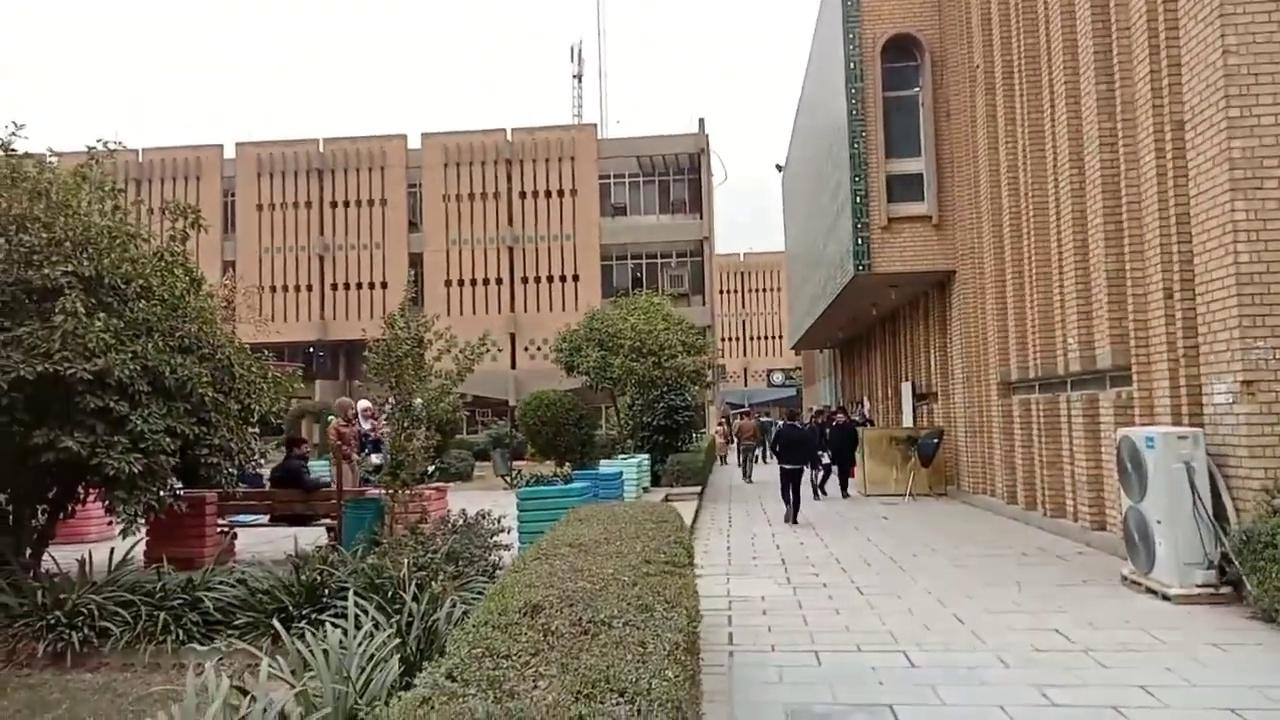person: (771, 410, 814, 525), (802, 404, 839, 503), (268, 434, 330, 491), (326, 396, 363, 488), (831, 411, 858, 499), (736, 409, 761, 483), (355, 398, 386, 456)
tree: (0, 122, 305, 584), (357, 269, 497, 536), (513, 387, 596, 472), (637, 385, 697, 484)
